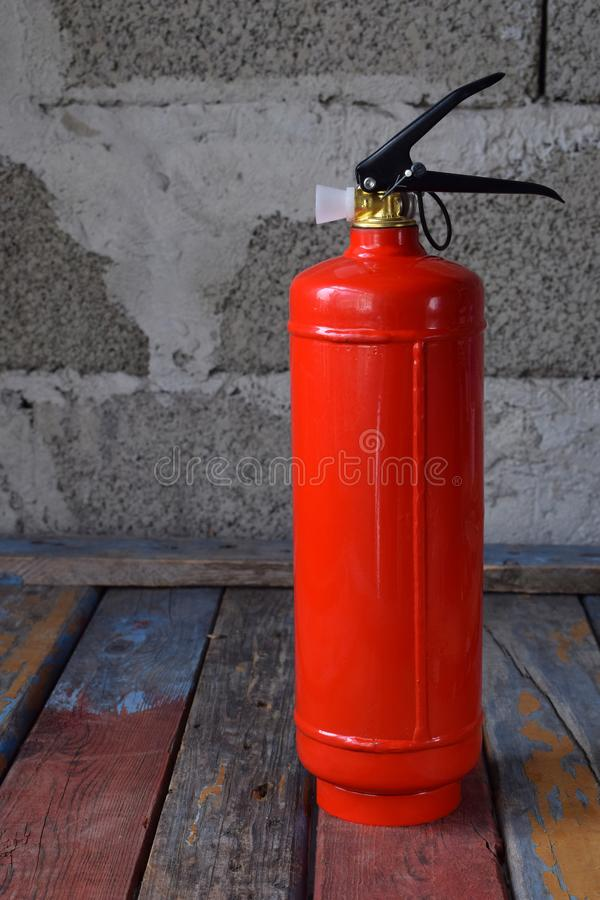fire_extinguisher: (287, 71, 565, 827)
